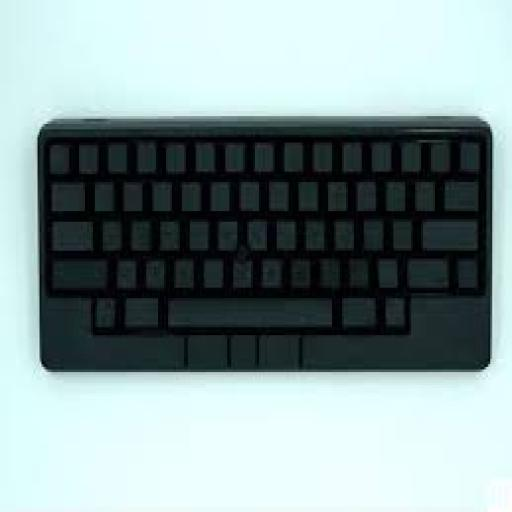KEYBOARD-2: (38, 116, 490, 369)
